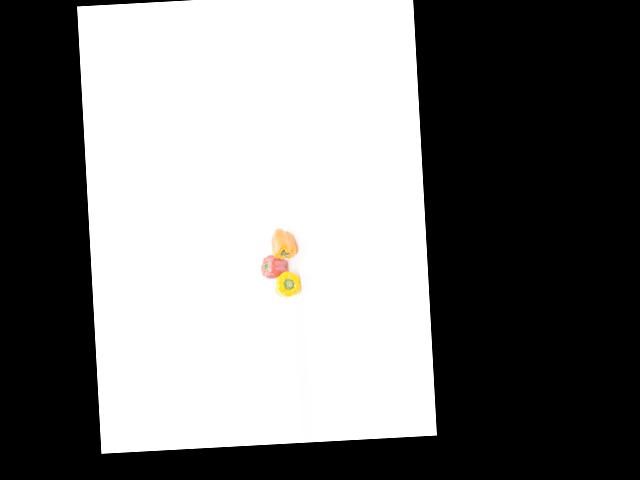bell_pepper: (272, 267, 302, 299)
